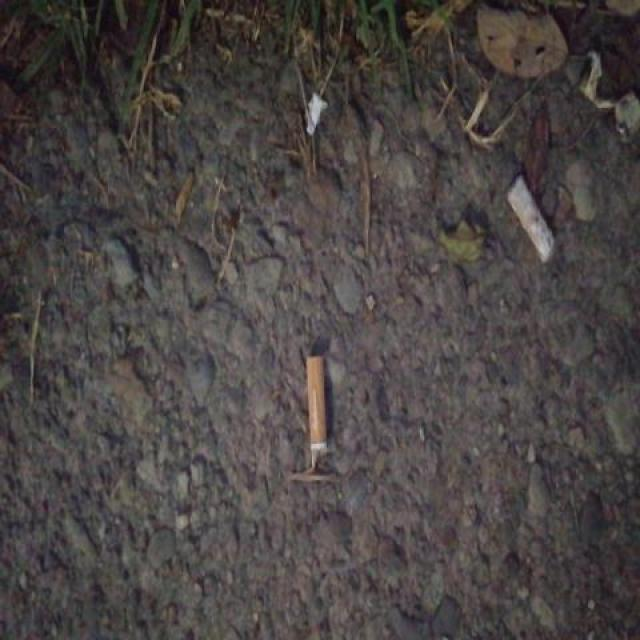non-organic waste: (502, 168, 562, 271), (303, 350, 329, 470)
